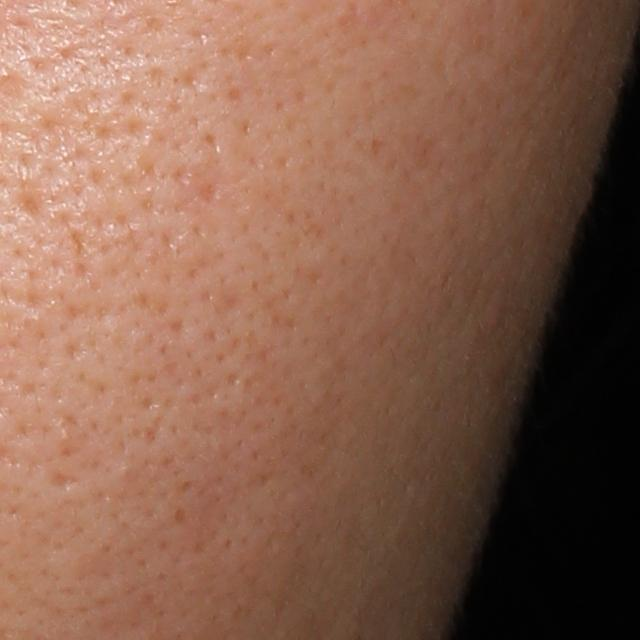atrophic_scar: (17, 194, 49, 226), (44, 468, 84, 492)
